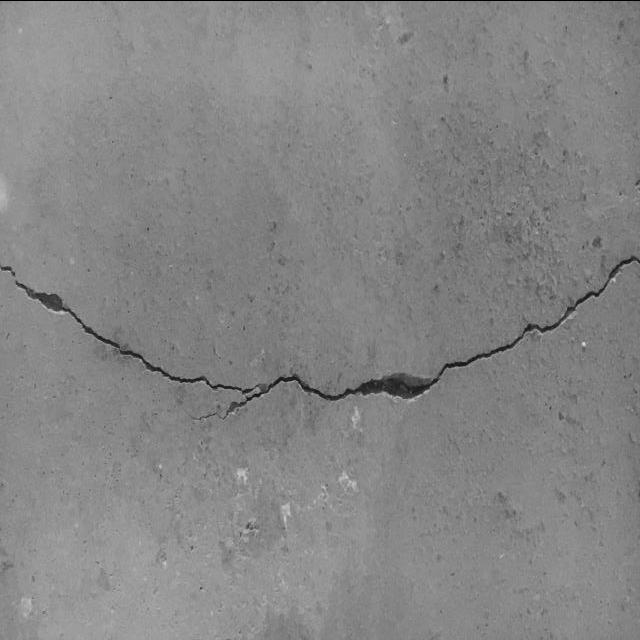SurfaceCrack: (1, 221, 640, 433)
